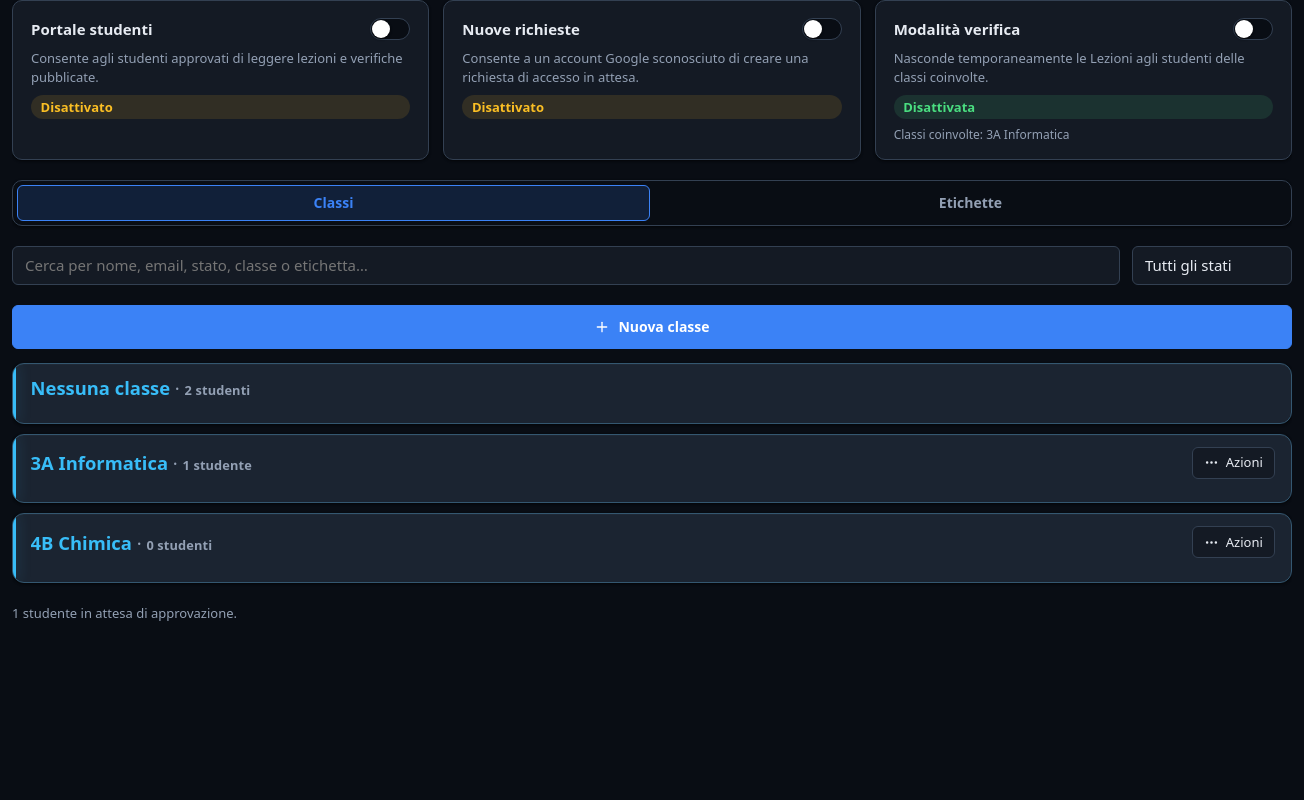
Test case: StudentsView — terza scheda Etichette (VDIF-01) › mostra le etichette caricate nella propria scheda
The width and height of the screenshot is (1304, 800).
Click the tab "Etichette" at {"x": 970, "y": 203}, box [654,185,1287,221]
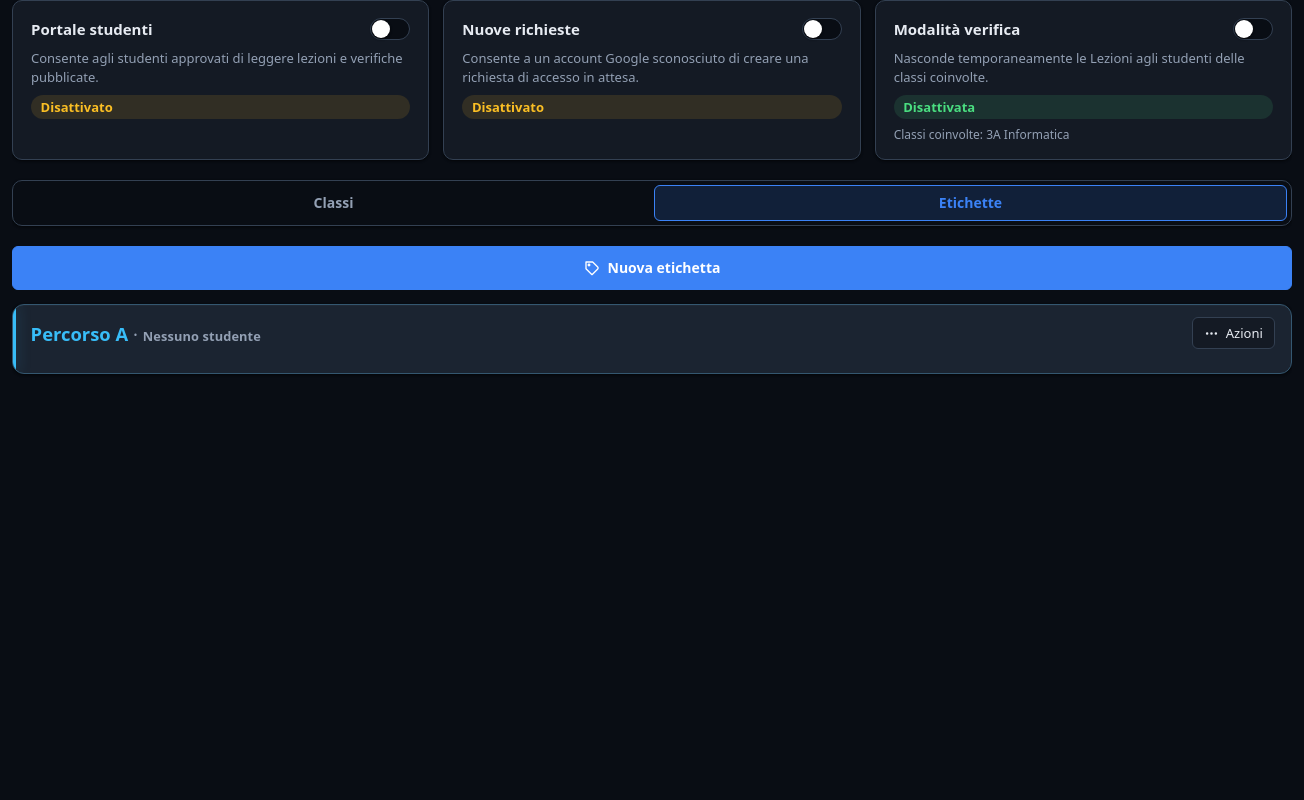
expect the list item with aria-label "Etichetta Percorso A" is shown: met, box [12,304,1292,374]
